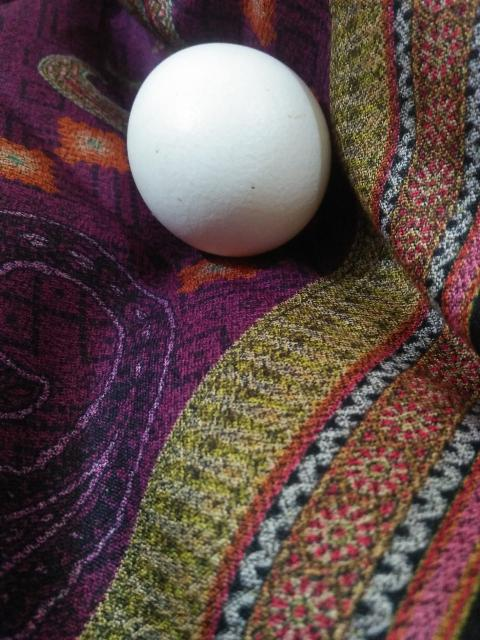Sano: (128, 42, 327, 256)
